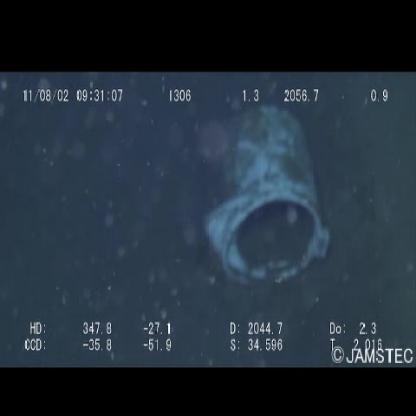Rác: (204, 105, 332, 290)
